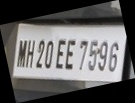character: (87, 39, 98, 72), (64, 38, 75, 70), (97, 40, 108, 71), (107, 41, 118, 72), (15, 39, 27, 67), (24, 38, 35, 68), (43, 39, 54, 69), (55, 39, 66, 69), (78, 39, 88, 71), (35, 39, 45, 68)
